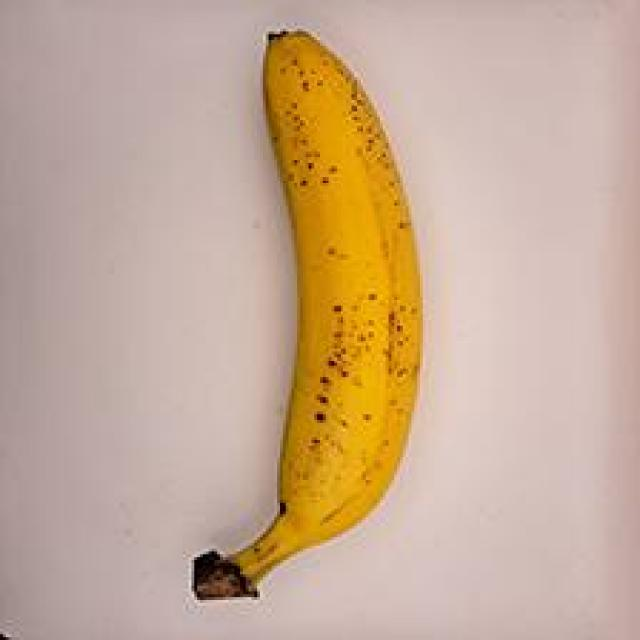Overripe: (152, 5, 454, 640)
